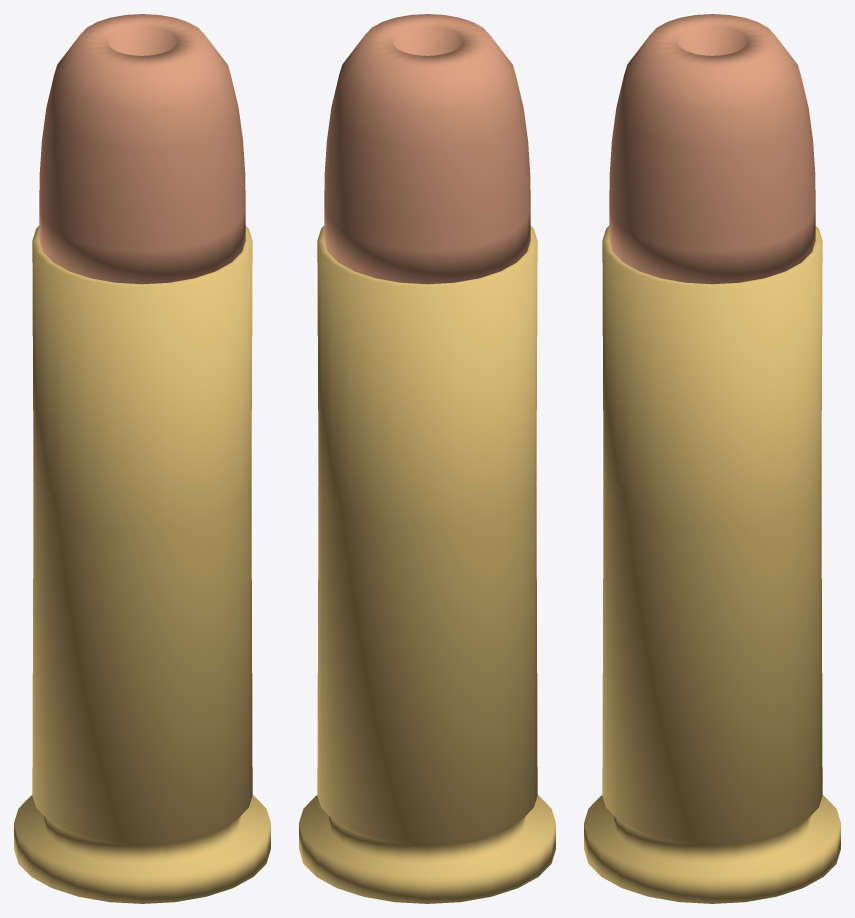
The picture shows the model from 3 angles, left to right: view 1: azimuth 30°, elevation 25°; view 2: azimuth 150°, elevation 25°; view 3: azimuth 270°, elevation 25°; orthographic projection.
Visible parts, largest first — view 1: vaina, bala_hueca; view 2: vaina, bala_hueca; view 3: vaina, bala_hueca.
Boxes of the visible parts, box(x1,y1,x2,y2) form: vaina: box(14, 225, 270, 903); bala_hueca: box(39, 14, 245, 284); vaina: box(299, 225, 555, 903); bala_hueca: box(324, 14, 530, 284); vaina: box(584, 225, 840, 903); bala_hueca: box(609, 14, 815, 284).
Bounding box in the file's own units: 0.0112 × 0.0389 × 0.0112.
